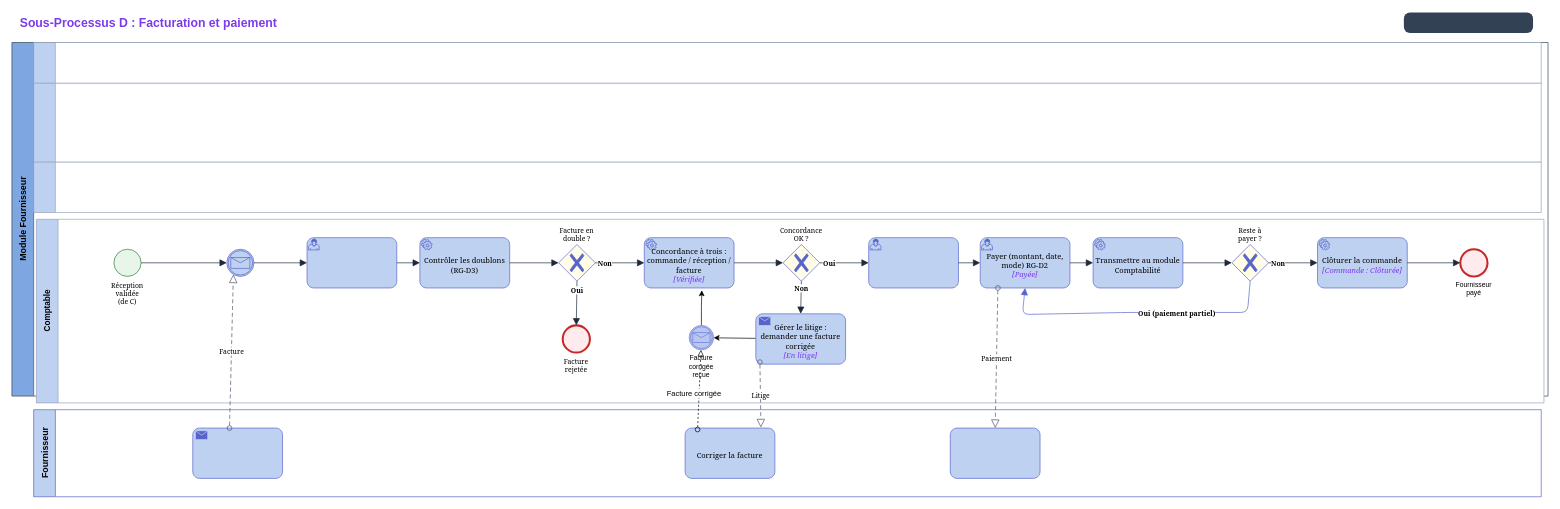
Some shapes in this 1560 by 509 pixel diagram are drawn without their labels. Here are the shapes that lost their labels. From the top down, the centre of each, then its label:
At [1468,22]: "← Niveau 1 (global)".
At [787,62]: "Magasinier".
At [787,122]: "Responsable achats".
At [787,187]: "Directeur".
At [240,262]: "Facture reçue".
At [351,262]: "Enregistrer la facture [Reçue]".
At [913,262]: "Valider la facture (RG-D1) [Validée]".
At [237,452]: "Envoyer la facture".
At [995,452]: "Recevoir le paiement".
